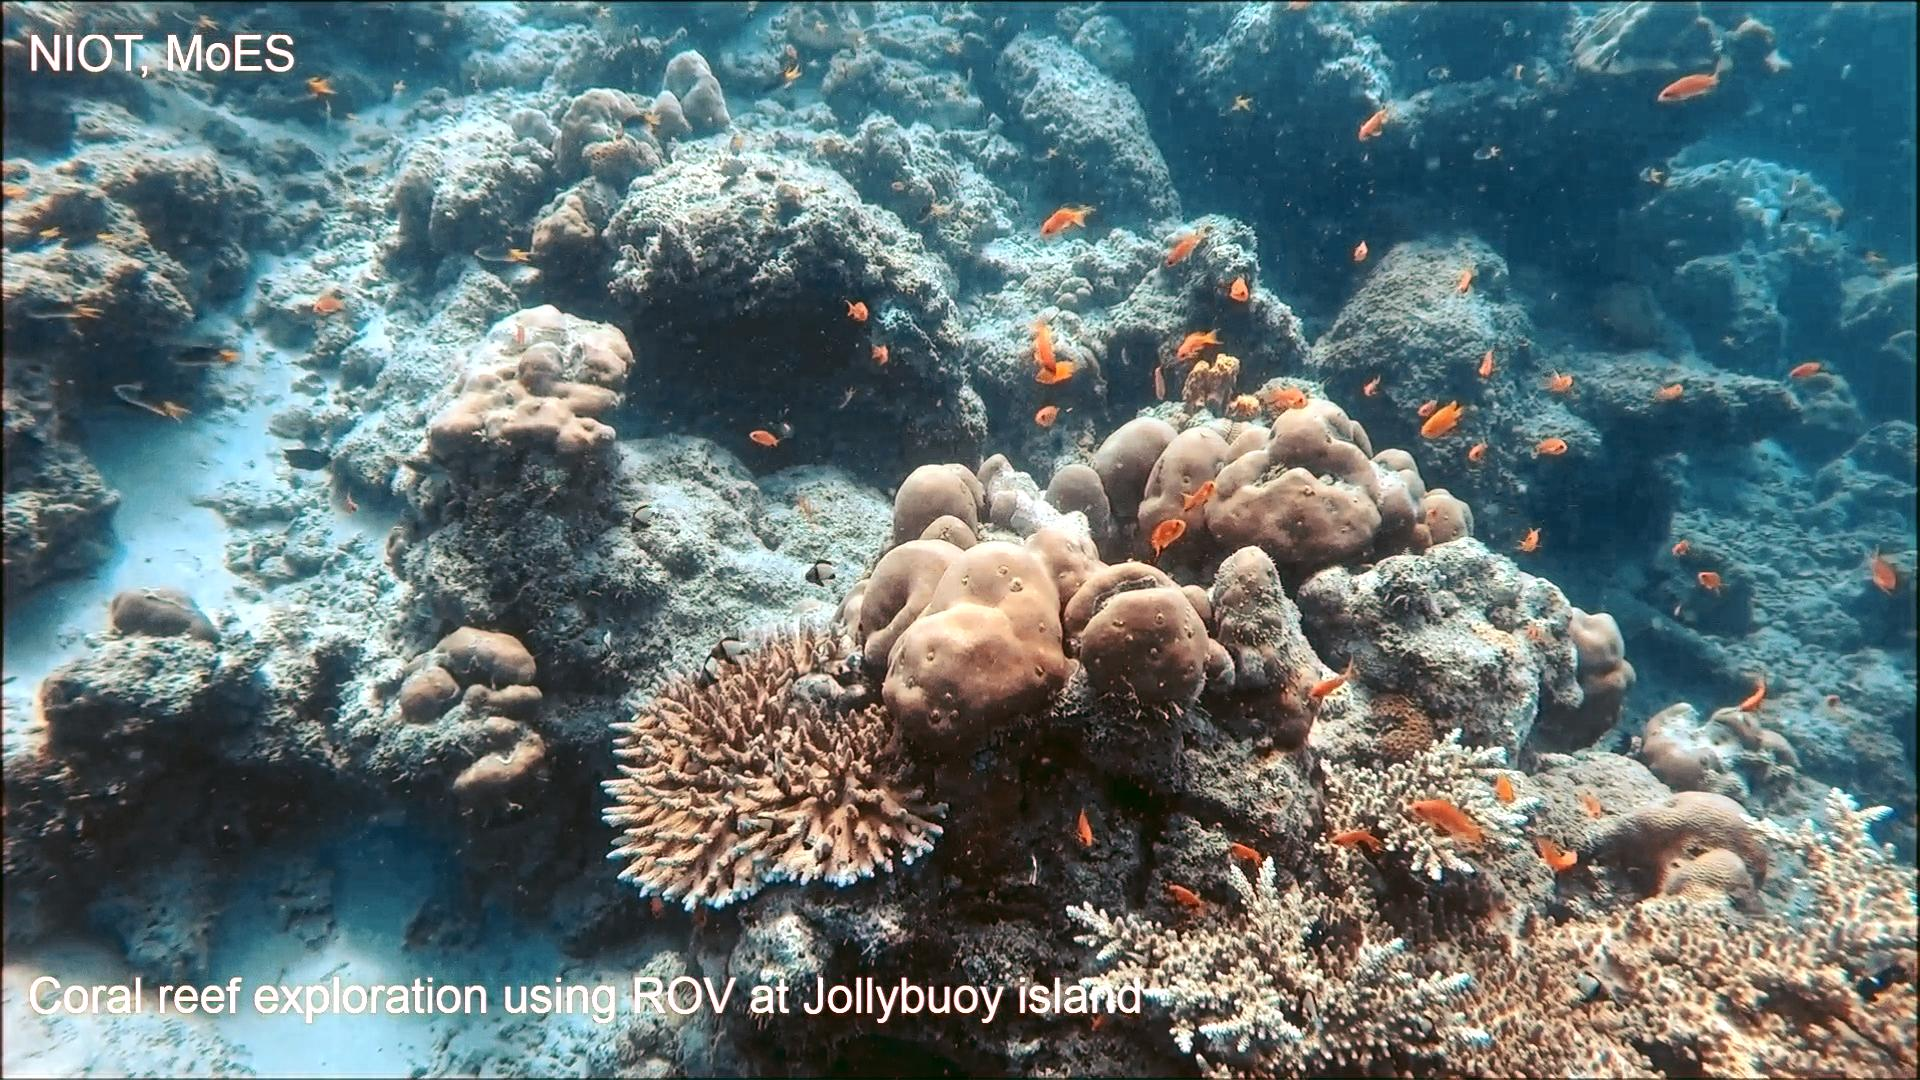Porites-Porites pukoensis: (829, 451, 1232, 752), (1080, 389, 1480, 574)
